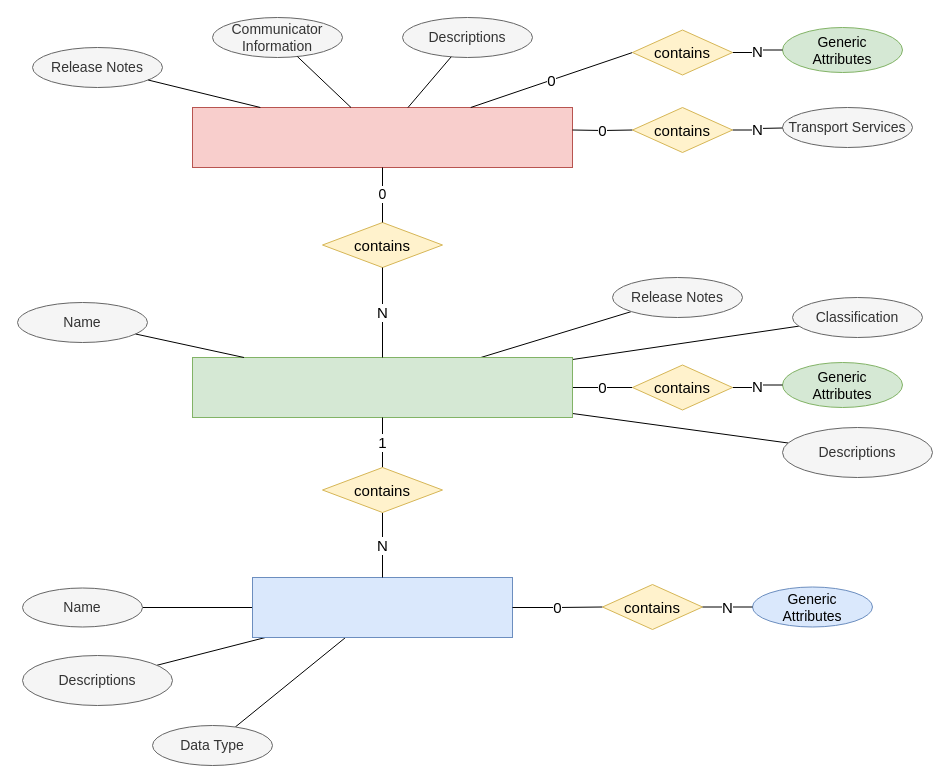
Image size: 950x783. Some labels were removed from this diagram. Here are the shapes that lost their labels. From the top down, the centre of each, then its label:
At pixel 382 137: "Communicator".
At pixel 382 387: "Functional Profile".
At pixel 382 607: "Data Point".
